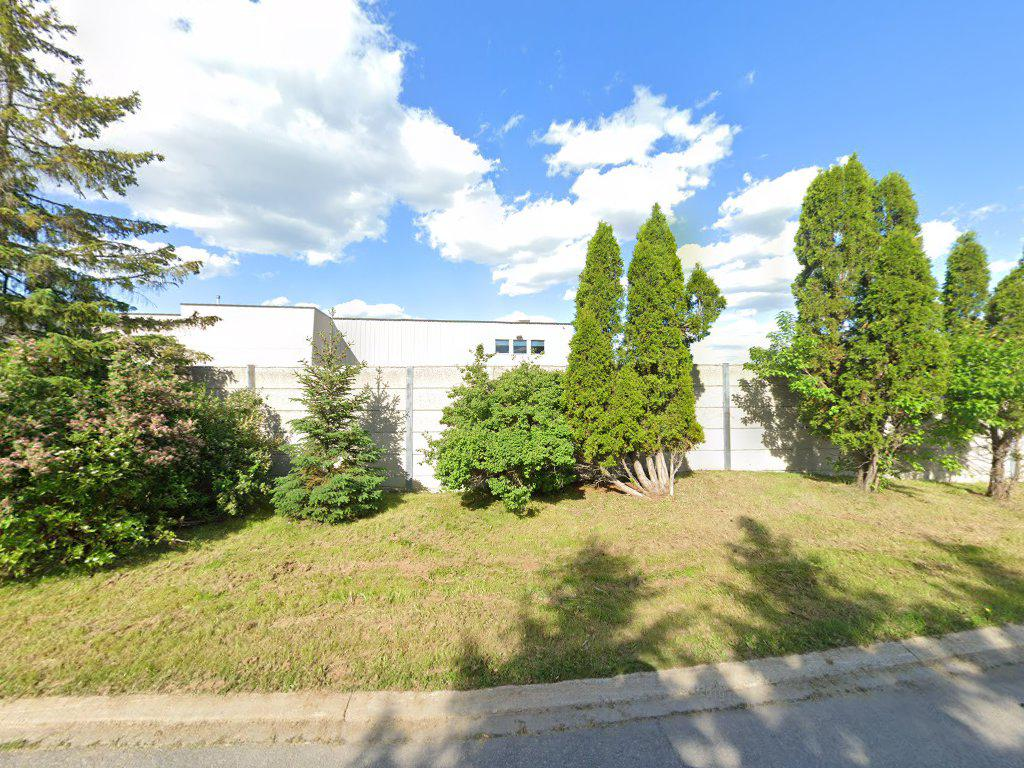trunk: (609, 452, 692, 497)
